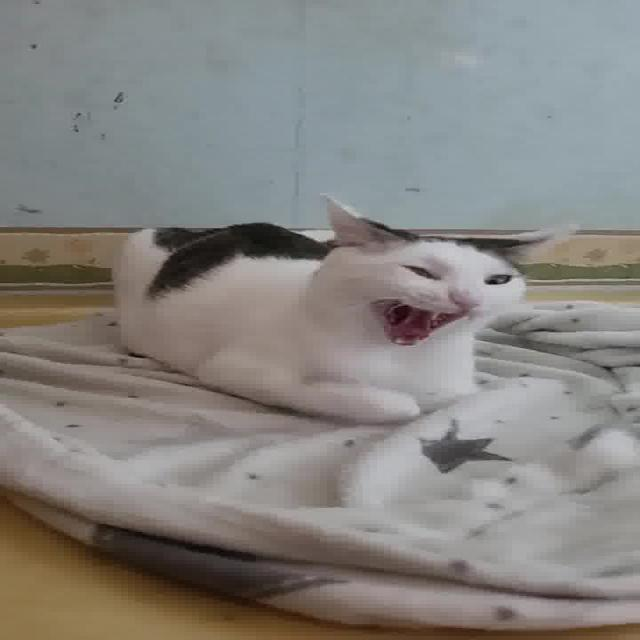cat: (107, 188, 588, 422)
